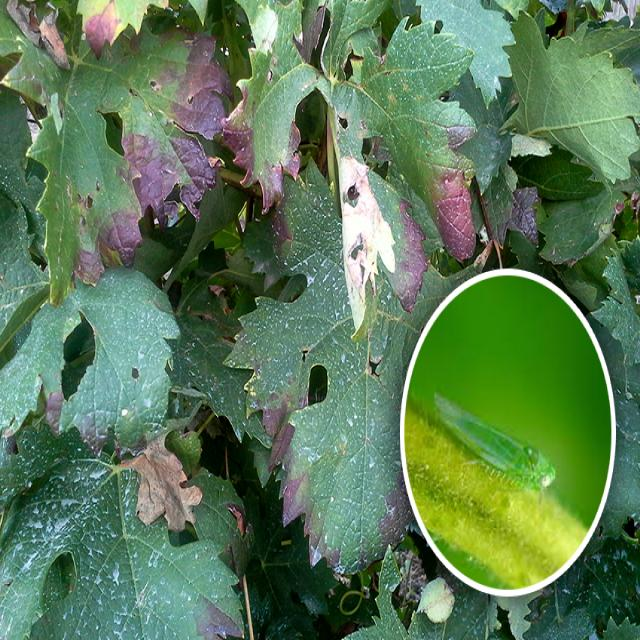Yechan: (432, 378, 572, 519)
